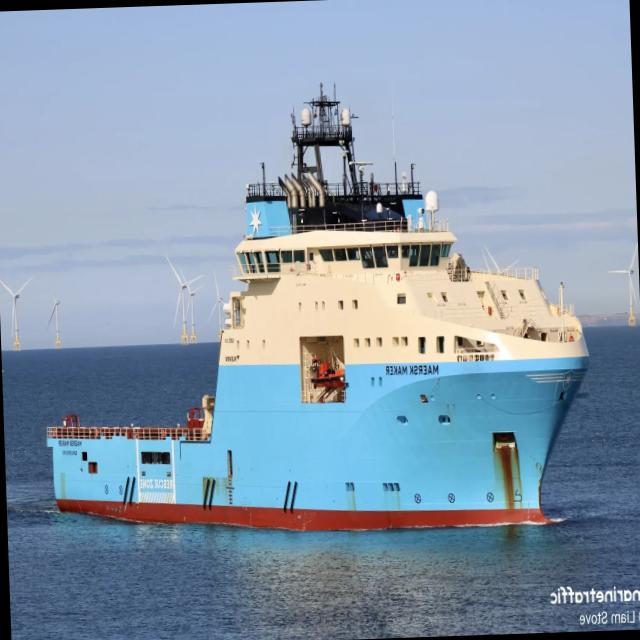Offshore: (47, 86, 588, 529)
